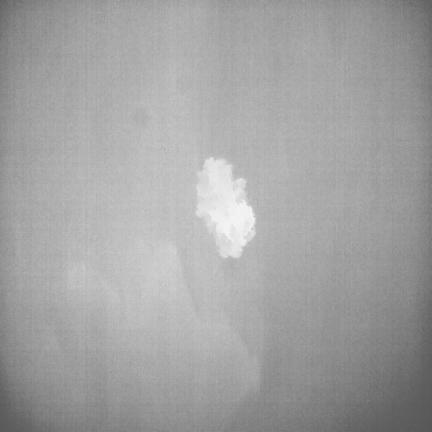flukeprints: (196, 157, 254, 257)
